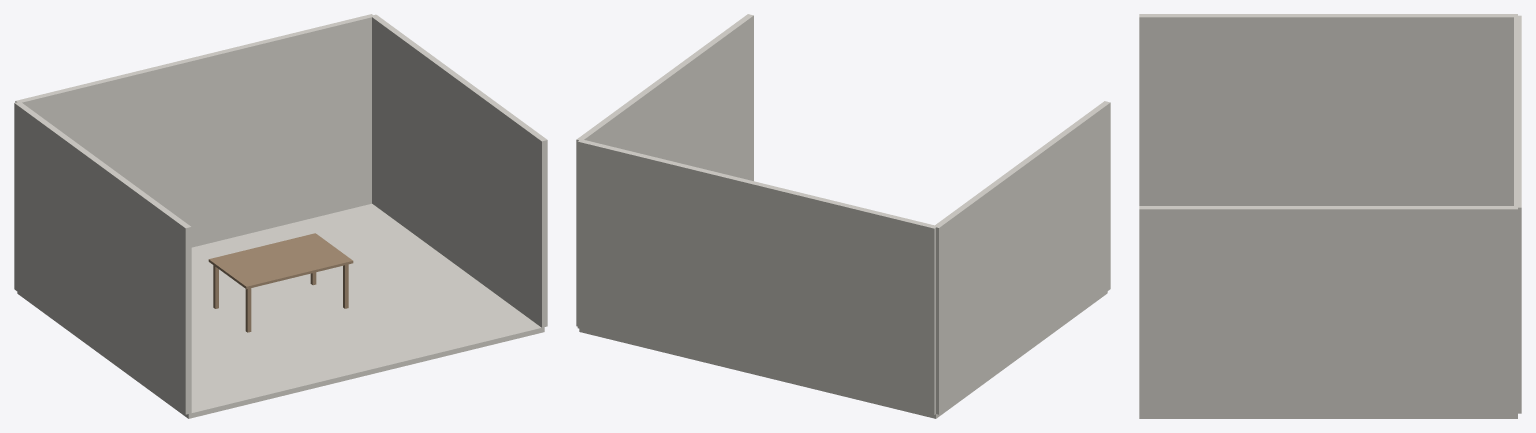
The model's file is office_reference.glb.
3 renders of one model, left to right at view 1: azimuth 30°, elevation 25°; view 2: azimuth 150°, elevation 25°; view 3: azimuth 270°, elevation 25°, orthographic. The views are drawn at different scales.
Visible parts, largest first — view 1: office_WallBack, office_Floor, office_WallLeft, office_WallRight, office_Desk; view 2: office_WallBack, office_WallLeft, office_WallRight, office_Floor; view 3: office_WallRight, office_WallLeft, office_WallBack, office_Floor.
Part boxes in pixels (<box>): office_WallBack: <box>15,14,374,247</box>; office_Floor: <box>17,203,544,418</box>; office_WallLeft: <box>14,101,191,414</box>; office_WallRight: <box>371,14,547,327</box>; office_Desk: <box>208,233,353,289</box>; office_WallBack: <box>577,139,937,414</box>; office_WallLeft: <box>935,101,1110,414</box>; office_WallRight: <box>576,14,753,326</box>; office_Floor: <box>579,291,1107,418</box>; office_WallRight: <box>1139,206,1517,414</box>; office_WallLeft: <box>1139,14,1517,205</box>; office_WallBack: <box>1514,15,1521,413</box>; office_Floor: <box>1139,415,1517,418</box>.
Bounding box in the file's own units: 6.1 × 3.08 × 5.05.
